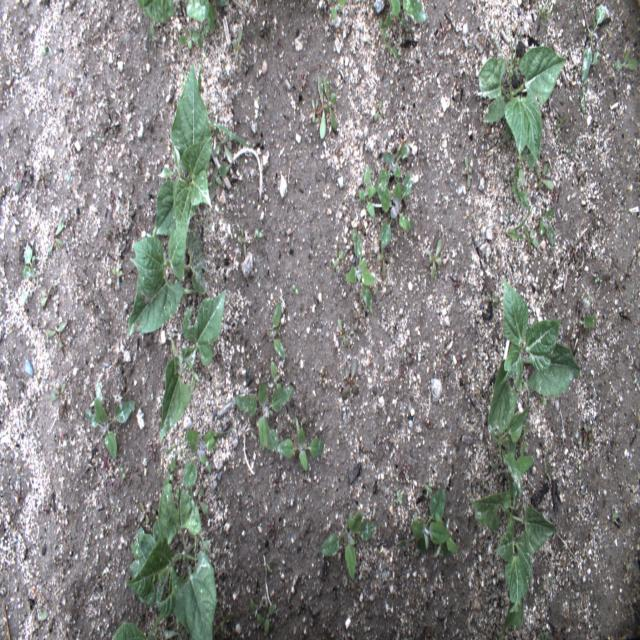crop: (113, 483, 216, 639), (486, 278, 578, 434), (472, 492, 556, 637), (153, 47, 215, 234), (477, 39, 567, 165), (160, 289, 227, 446), (125, 226, 209, 339), (484, 404, 534, 504), (184, 0, 229, 31), (135, 0, 176, 25)
weed: (318, 506, 377, 581), (235, 384, 294, 451), (85, 382, 135, 459), (342, 227, 378, 315), (379, 173, 415, 251), (410, 490, 450, 552), (278, 420, 324, 470), (582, 2, 608, 82), (182, 430, 215, 483), (375, 139, 410, 186), (492, 25, 520, 82), (18, 240, 39, 306), (389, 0, 427, 33), (508, 163, 534, 210), (267, 299, 286, 362), (612, 44, 640, 80), (573, 292, 598, 331), (434, 515, 457, 555), (502, 210, 534, 236), (323, 73, 337, 131), (359, 169, 375, 219), (213, 125, 231, 168), (506, 225, 539, 248), (340, 360, 359, 399), (538, 209, 556, 248), (428, 237, 443, 282), (534, 162, 556, 192), (317, 74, 327, 138), (190, 484, 209, 517), (48, 218, 65, 253), (46, 320, 65, 350), (14, 164, 33, 194), (179, 26, 200, 52), (211, 160, 226, 193), (539, 1, 556, 28), (578, 81, 589, 120), (350, 306, 366, 332), (554, 115, 567, 146), (329, 0, 348, 21), (232, 27, 242, 65), (249, 601, 264, 625), (32, 610, 48, 632), (338, 315, 348, 349), (41, 283, 55, 307), (463, 153, 472, 190), (378, 247, 388, 280), (237, 229, 248, 258), (266, 606, 276, 637), (520, 422, 530, 453), (50, 382, 67, 400), (484, 290, 500, 309), (582, 423, 594, 448), (163, 458, 175, 483), (378, 15, 391, 38), (374, 98, 384, 125), (309, 96, 319, 123), (404, 343, 418, 362), (270, 362, 281, 386), (543, 457, 553, 483), (120, 200, 135, 217), (41, 166, 52, 188), (140, 500, 149, 526), (332, 249, 344, 268), (108, 119, 122, 135), (41, 41, 54, 58), (147, 22, 155, 48), (386, 41, 399, 57), (610, 506, 620, 526), (5, 53, 12, 80), (576, 457, 584, 479), (424, 626, 437, 639), (111, 266, 124, 278), (538, 628, 550, 640), (395, 489, 403, 506), (291, 282, 300, 297), (105, 225, 115, 238), (320, 370, 327, 387), (424, 482, 431, 499), (254, 228, 264, 238), (120, 464, 126, 480), (631, 375, 638, 388), (95, 136, 105, 145), (265, 559, 272, 571), (565, 146, 572, 156), (593, 275, 600, 284)
